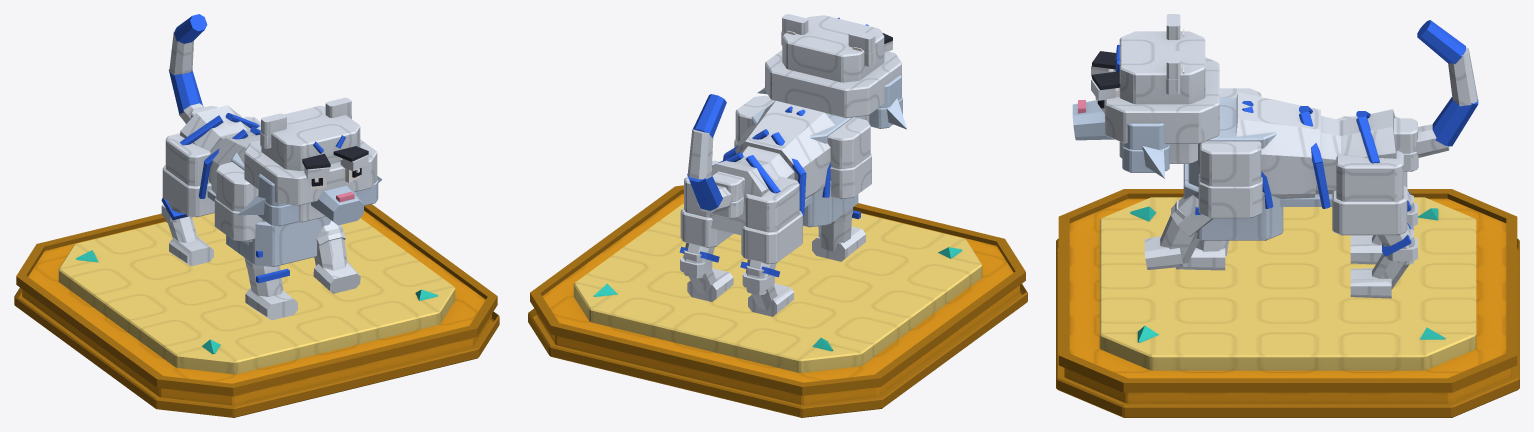
Rendered from SapphireTiger.fbx.
3 views of the same model, side by side, from view 1: azimuth 30°, elevation 25°; view 2: azimuth 150°, elevation 25°; view 3: azimuth 270°, elevation 25° (orthographic). The views are drawn at different scales.
Parts seen in each view (by area): view 1: Art_SapphireTiger_Stand, Art_SapphireTiger_Body, Art_SapphireTiger_Head, Art_SapphireTiger_Tail, Art_SapphireTiger_ArmR, Art_SapphireTiger_ArmL; view 2: Art_SapphireTiger_Stand, Art_SapphireTiger_Body, Art_SapphireTiger_Head, Art_SapphireTiger_Tail, Art_SapphireTiger_ArmR; view 3: Art_SapphireTiger_Stand, Art_SapphireTiger_Body, Art_SapphireTiger_Head, Art_SapphireTiger_Tail, Art_SapphireTiger_ArmL, Art_SapphireTiger_ArmR.
Part boxes in pixels (left/top/right/bottom): Art_SapphireTiger_Stand: left=14, top=204, right=499, bottom=417; Art_SapphireTiger_Body: left=161, top=105, right=330, bottom=266; Art_SapphireTiger_Head: left=237, top=97, right=382, bottom=226; Art_SapphireTiger_Tail: left=169, top=14, right=217, bottom=123; Art_SapphireTiger_ArmR: left=242, top=240, right=297, bottom=320; Art_SapphireTiger_ArmL: left=313, top=220, right=360, bottom=293; Art_SapphireTiger_Stand: left=528, top=185, right=1027, bottom=417; Art_SapphireTiger_Body: left=679, top=95, right=871, bottom=316; Art_SapphireTiger_Head: left=757, top=14, right=907, bottom=129; Art_SapphireTiger_Tail: left=687, top=94, right=744, bottom=218; Art_SapphireTiger_ArmR: left=812, top=207, right=865, bottom=261; Art_SapphireTiger_Stand: left=1056, top=189, right=1519, bottom=417; Art_SapphireTiger_Body: left=1183, top=88, right=1417, bottom=298; Art_SapphireTiger_Head: left=1072, top=14, right=1219, bottom=178; Art_SapphireTiger_Tail: left=1394, top=20, right=1478, bottom=171; Art_SapphireTiger_ArmL: left=1144, top=195, right=1241, bottom=269; Art_SapphireTiger_ArmR: left=1176, top=240, right=1228, bottom=270.
Size of the model in its own units: 3.4 by 2.42 by 3.4.
